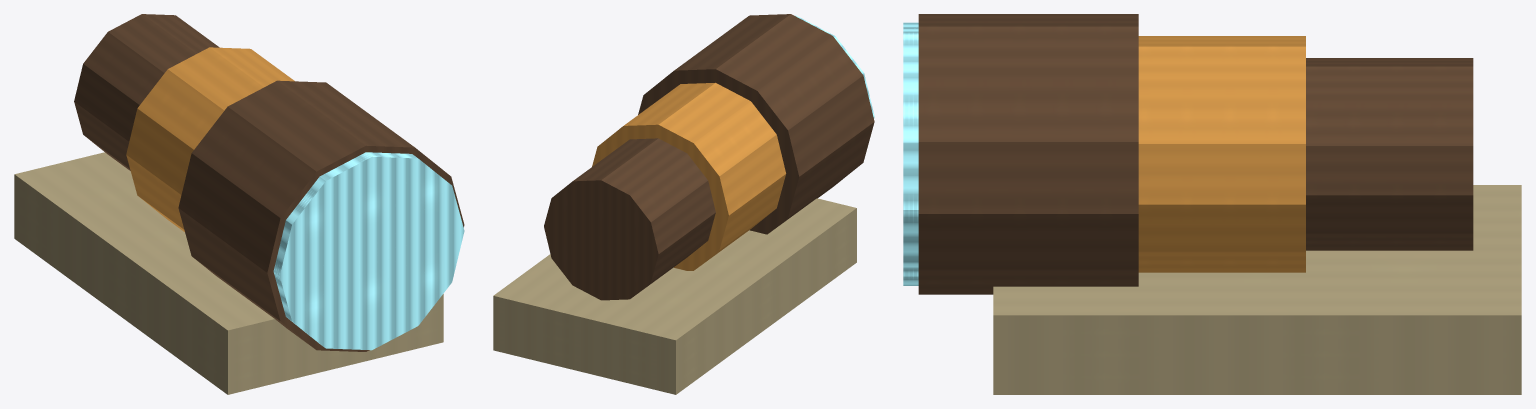
File: atlas100-s013-a05.glb
The picture shows the model from 3 angles, left to right: view 1: azimuth 30°, elevation 25°; view 2: azimuth 150°, elevation 25°; view 3: azimuth 270°, elevation 25°; orthographic projection. The views are drawn at different scales.
Visible parts, largest first — view 1: atlas100-s013-a05:part-004, atlas100-s013-a05:part-003, atlas100-s013-a05:part-002, atlas100-s013-a05:part-001, atlas100-s013-a05:part-000; view 2: atlas100-s013-a05:part-004, atlas100-s013-a05:part-002, atlas100-s013-a05:part-000, atlas100-s013-a05:part-001; view 3: atlas100-s013-a05:part-004, atlas100-s013-a05:part-002, atlas100-s013-a05:part-001, atlas100-s013-a05:part-000, atlas100-s013-a05:part-003.
Boxes of the visible parts, box(x1,y1,x2,y2) form: atlas100-s013-a05:part-004: box(14, 152, 443, 394); atlas100-s013-a05:part-003: box(273, 152, 464, 350); atlas100-s013-a05:part-002: box(178, 80, 464, 351); atlas100-s013-a05:part-001: box(126, 47, 294, 231); atlas100-s013-a05:part-000: box(74, 14, 219, 170); atlas100-s013-a05:part-004: box(493, 198, 856, 394); atlas100-s013-a05:part-002: box(638, 14, 874, 234); atlas100-s013-a05:part-000: box(544, 138, 715, 300); atlas100-s013-a05:part-001: box(592, 82, 786, 270); atlas100-s013-a05:part-004: box(993, 185, 1521, 394); atlas100-s013-a05:part-002: box(918, 14, 1138, 294); atlas100-s013-a05:part-001: box(1138, 36, 1305, 272); atlas100-s013-a05:part-000: box(1306, 58, 1473, 250); atlas100-s013-a05:part-003: box(903, 22, 918, 285).
Bounding box in the file's own units: 0.3822 × 0.415 × 0.7671.
4 materials, 4 textured.
